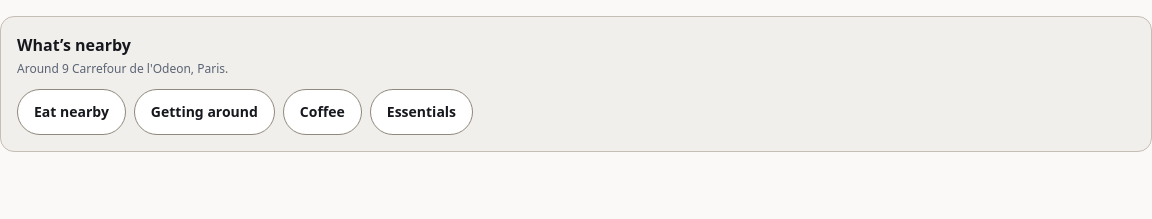
Test: what it refuses to ask › survives losing the network mid-question
This screenshot has width=1152, height=219.
Step 1. Click the button "Eat nearby" → {"x": 71, "y": 112}, box [17, 89, 126, 135]
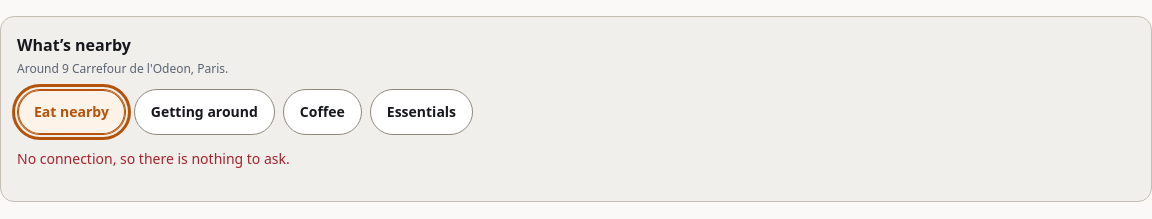
Result: the text "No connection, so there is nothing to ask." is shown at [17, 149, 290, 168]
